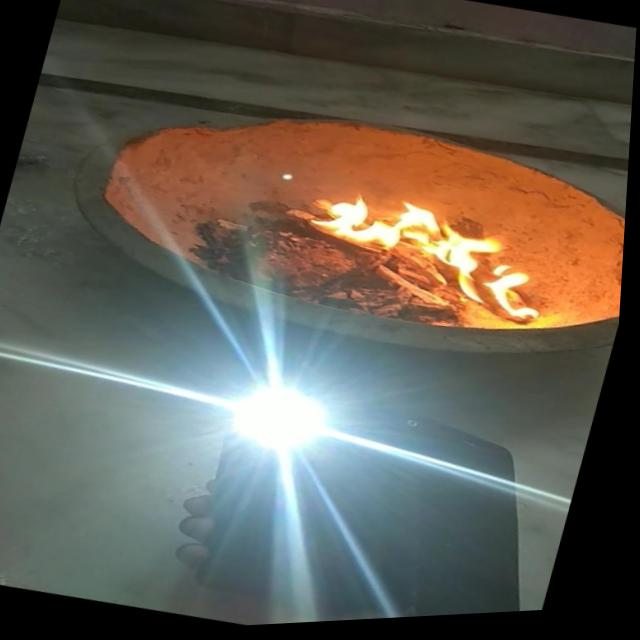fire: (309, 177, 516, 294), (444, 257, 567, 336)
